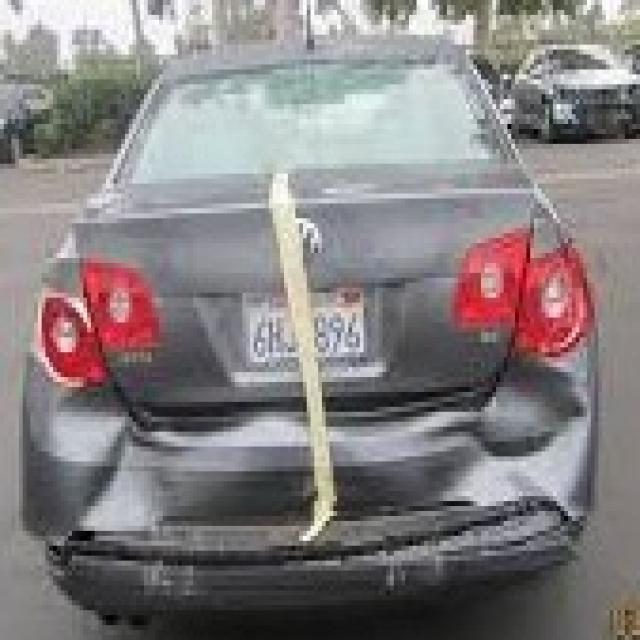moderate: (61, 451, 584, 598)
